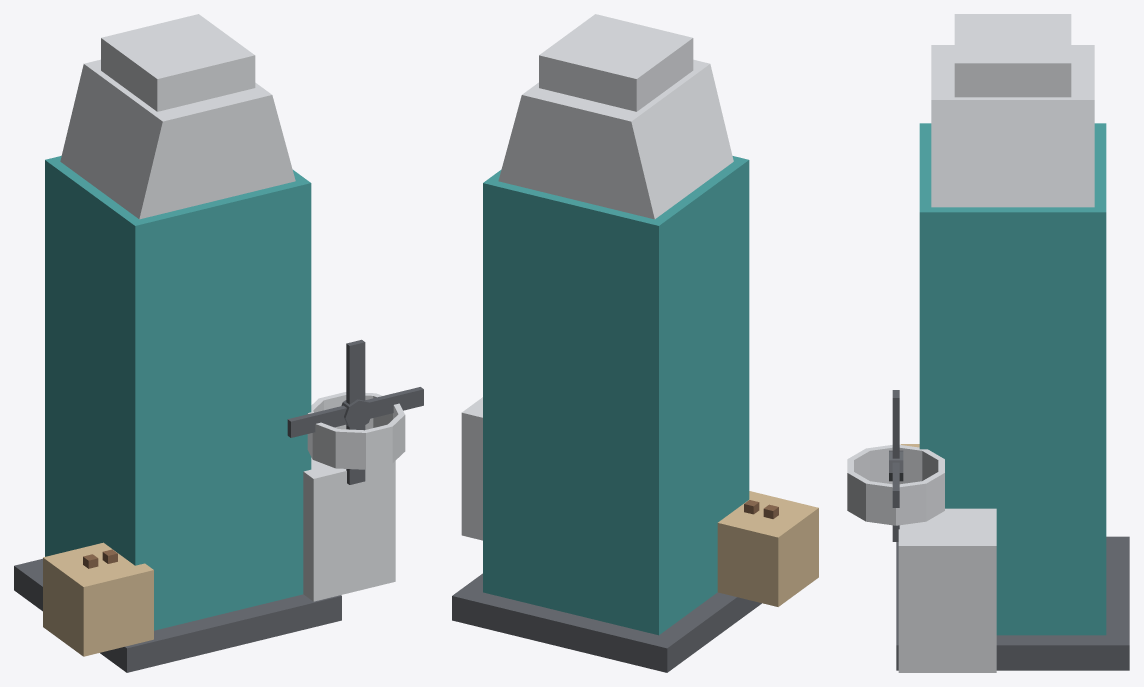
The model's file is chocolate-and-confectionery-factory-cocoa-winnower-75a3df9b__36760.glb.
3 views of the same model, side by side, from view 1: azimuth 30°, elevation 25°; view 2: azimuth 150°, elevation 25°; view 3: azimuth 270°, elevation 25° (orthographic). The views are drawn at different scales.
Visible parts, largest first — view 1: cocoa-winnower, fan-winnower; view 2: cocoa-winnower; view 3: cocoa-winnower, fan-winnower.
Part boxes in pixels (left/top/right/bottom): cocoa-winnower: left=14, top=14, right=405, bottom=672; fan-winnower: left=287, top=339, right=423, bottom=484; cocoa-winnower: left=452, top=14, right=818, bottom=672; cocoa-winnower: left=847, top=14, right=1129, bottom=672; fan-winnower: left=889, top=390, right=903, bottom=541.
Bounding box in the file's own units: 1.72 × 2.73 × 1.21.
